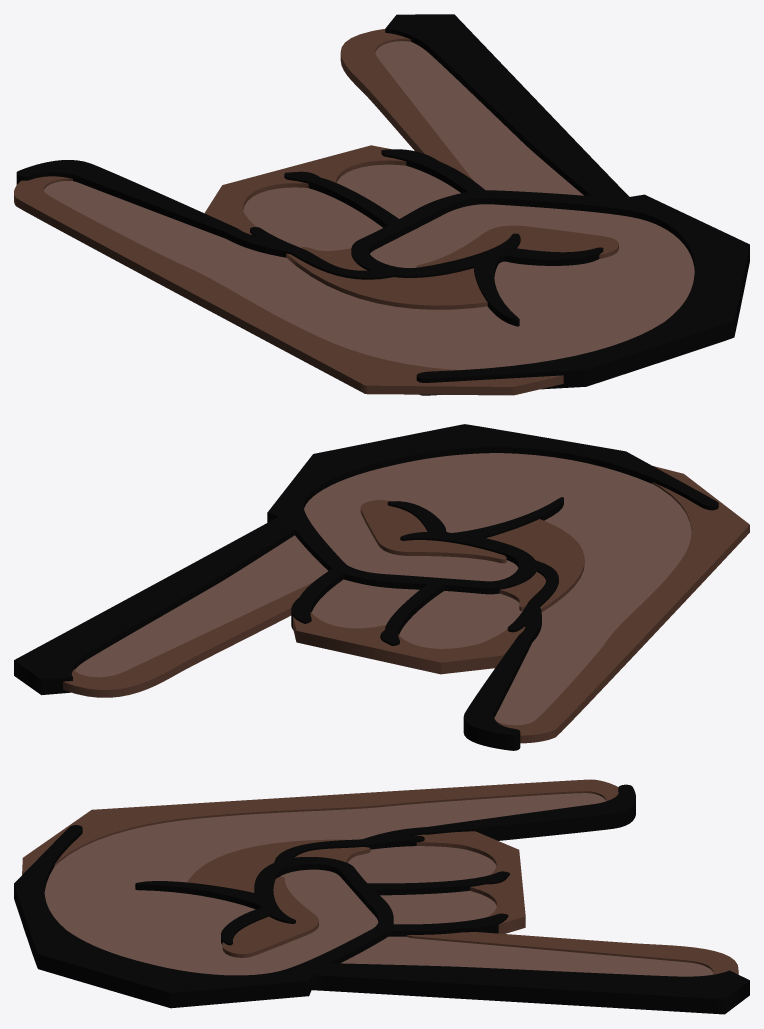
The model's file is emoji_u1f918_1f3ff.glb.
The picture shows the model from 3 angles, top to bottom: view 1: azimuth 30°, elevation 25°; view 2: azimuth 150°, elevation 25°; view 3: azimuth 270°, elevation 25°; orthographic projection. The views are drawn at different scales.
Visible parts, largest first — view 1: emoji_u1f918_1f3ff; view 2: emoji_u1f918_1f3ff; view 3: emoji_u1f918_1f3ff.
Part boxes in pixels (box(x1,y1,x2,y2)): emoji_u1f918_1f3ff: box(14, 14, 749, 395); emoji_u1f918_1f3ff: box(14, 424, 749, 750); emoji_u1f918_1f3ff: box(14, 779, 749, 1014).
Bounding box in the file's own units: 0.0254 × 0.0008 × 0.0353.
